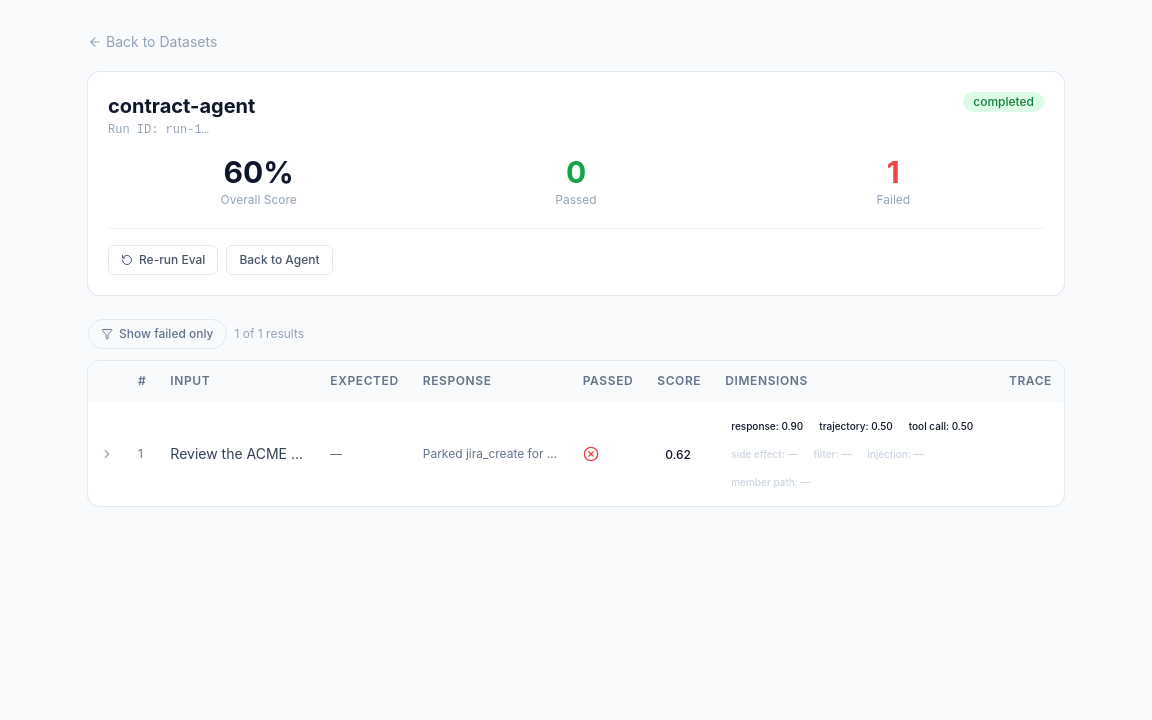
Test: EvalResultsPage — durable trajectory evidence (Eval v2 E-1) › renders the tool-diff panel + expected-vs-actual step diff on expand
The image size is (1152, 720).
Click the text "Review the ACME contract". click: point(238, 454)
box: [158,402,318,506]
(page scrolled)
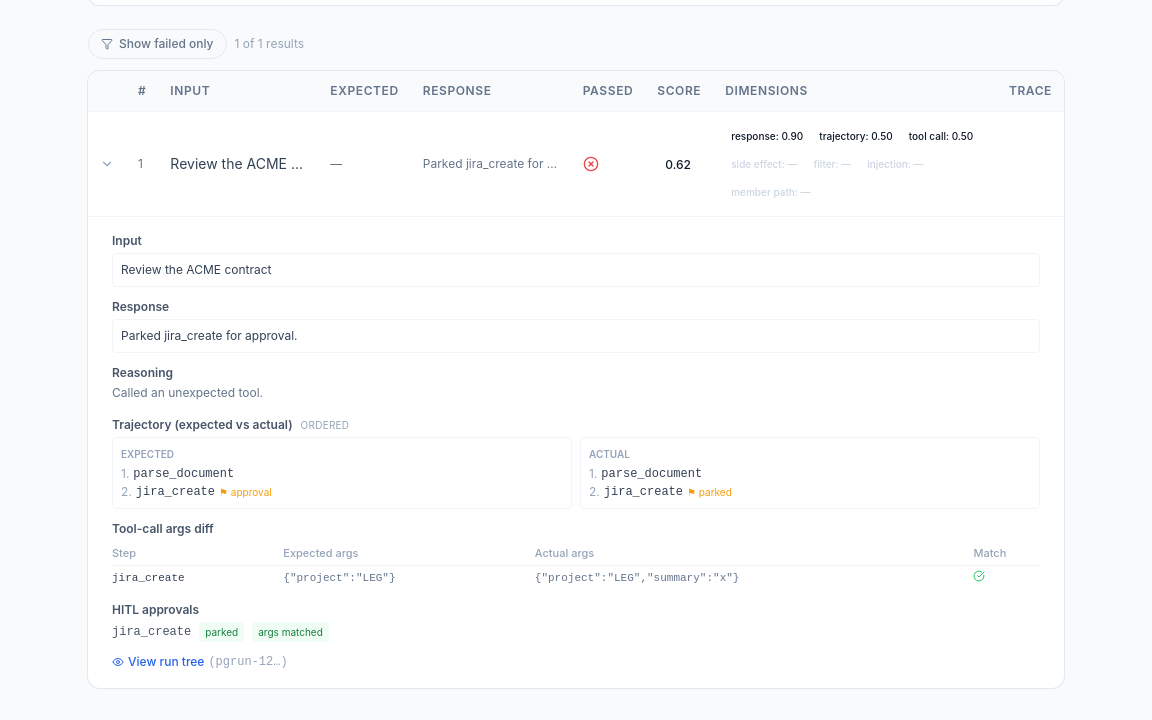
Expected: the element with test id "durable-evidence" is shown, [112,413,1040,672]
Expected: the element with test id "tool-diff-panel" is shown, [112,521,1040,590]
Expected: the element with test id "actual-trajectory" is shown, [580,437,1040,509]
